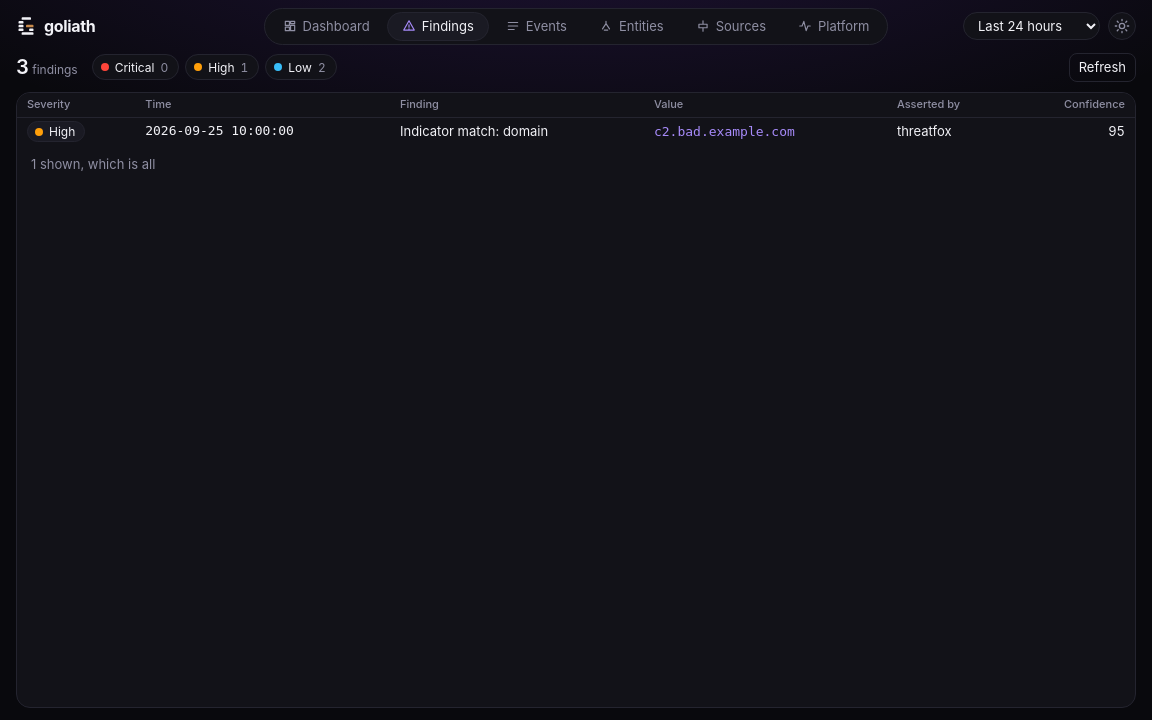
Test case: the queue of findings › shows what was found, and what one finding says beside it
Expected: the text "Indicator match: domain" shows "High", [49,124,75,139]
Expected: the text "Indicator match: domain" shows "threatfox", [897,123,952,139]
The panel: why, who and what, and the event it was made of.
Click the text "Indicator match: domain": (517, 131) [390,117,644,145]
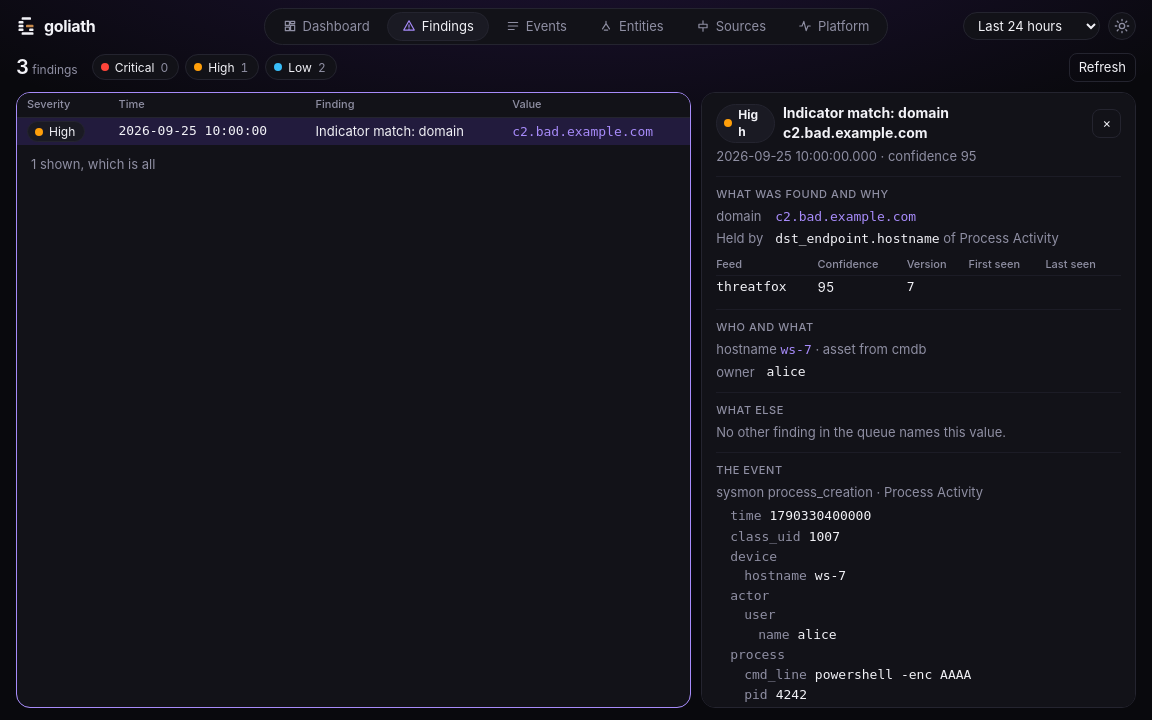
Result: the element named "Finding" shows "hostname ws-7 · asset from cmdb" at [701,92,1136,708]
Result: the element named "Finding" shows "owner" at [716,364,755,380]
Result: the text "powershell -enc AAAA" is shown at [815,667,971,682]
